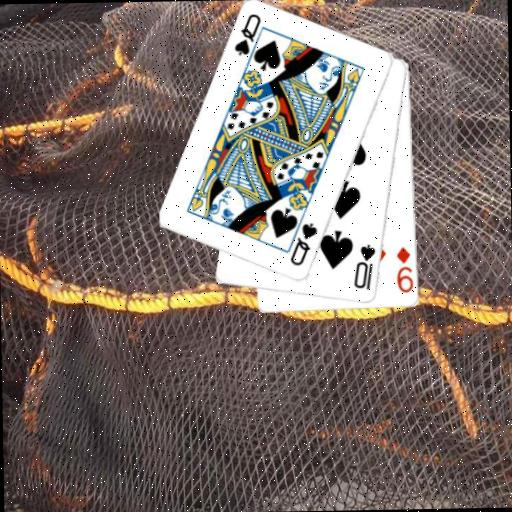10S: (350, 241, 378, 292)
9D: (393, 244, 414, 295)
QS: (287, 219, 320, 268), (230, 10, 263, 58)
